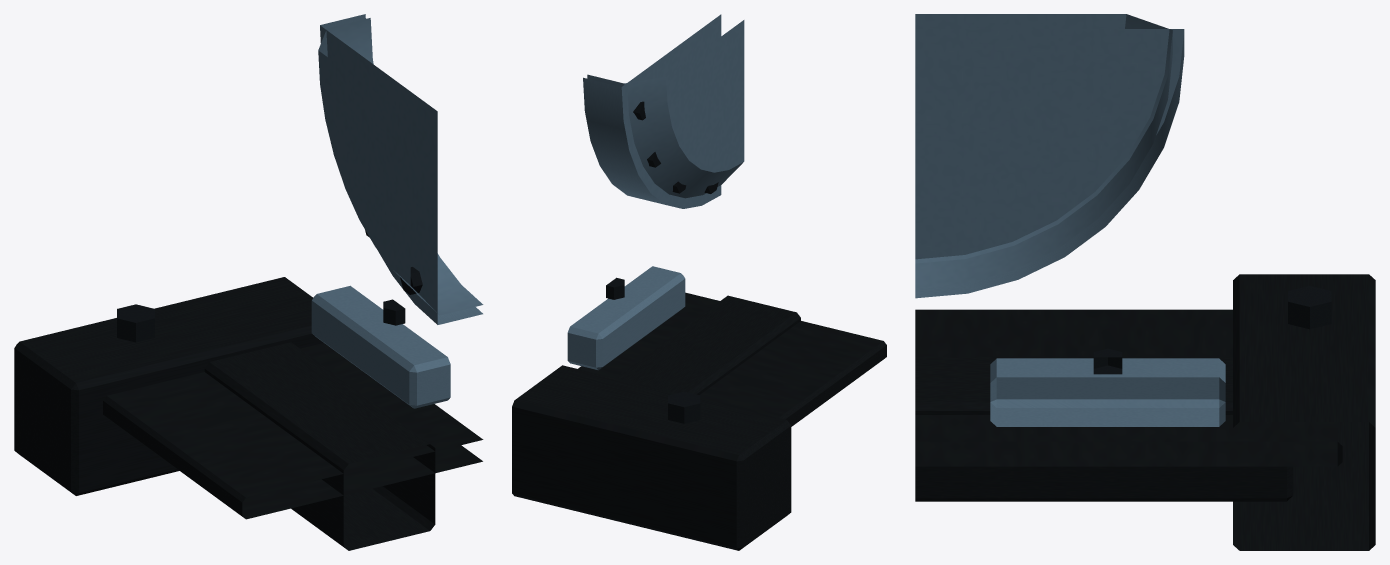
The model's file is cell_0.obj.
3 renders of one model, left to right at view 1: azimuth 30°, elevation 25°; view 2: azimuth 150°, elevation 25°; view 3: azimuth 270°, elevation 25°, orthographic. The views are drawn at different scales.
Visible parts, largest first — view 1: cell_0; view 2: cell_0; view 3: cell_0.
Part boxes in pixels (x1=…): cell_0: x1=14, y1=14, x2=483, y2=550; cell_0: x1=512, y1=14, x2=886, y2=550; cell_0: x1=915, y1=14, x2=1375, y2=550.
Bounding box in the file's own units: 0.65 × 1 × 0.84.
